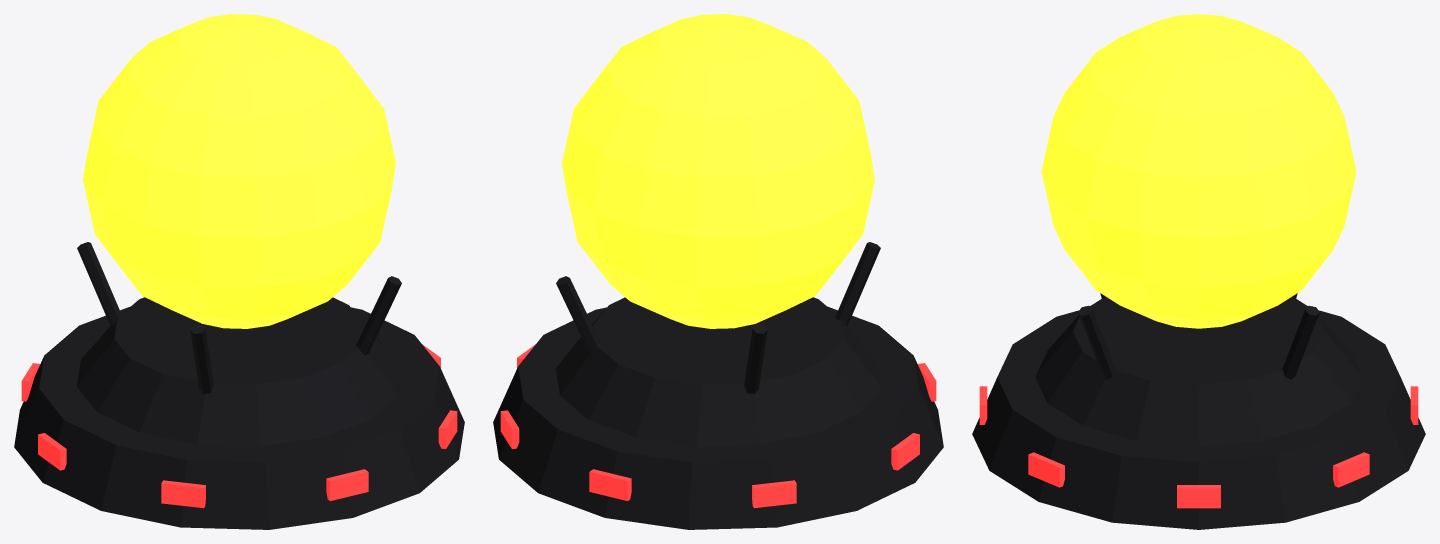
The model's file is Sphere_Dyson.glb.
3 views of the same model, side by side, from view 1: azimuth 30°, elevation 25°; view 2: azimuth 150°, elevation 25°; view 3: azimuth 270°, elevation 25° (orthographic).
Parts seen in each view (by area): view 1: Sphere_Dyson; view 2: Sphere_Dyson; view 3: Sphere_Dyson.
Boxes of the visible parts, left/top/right/bottom form: Sphere_Dyson: left=14, top=14, right=464, bottom=529; Sphere_Dyson: left=493, top=14, right=943, bottom=529; Sphere_Dyson: left=972, top=14, right=1425, bottom=529.
Bounding box in the file's own units: 7.2 × 7.1 × 7.2.
